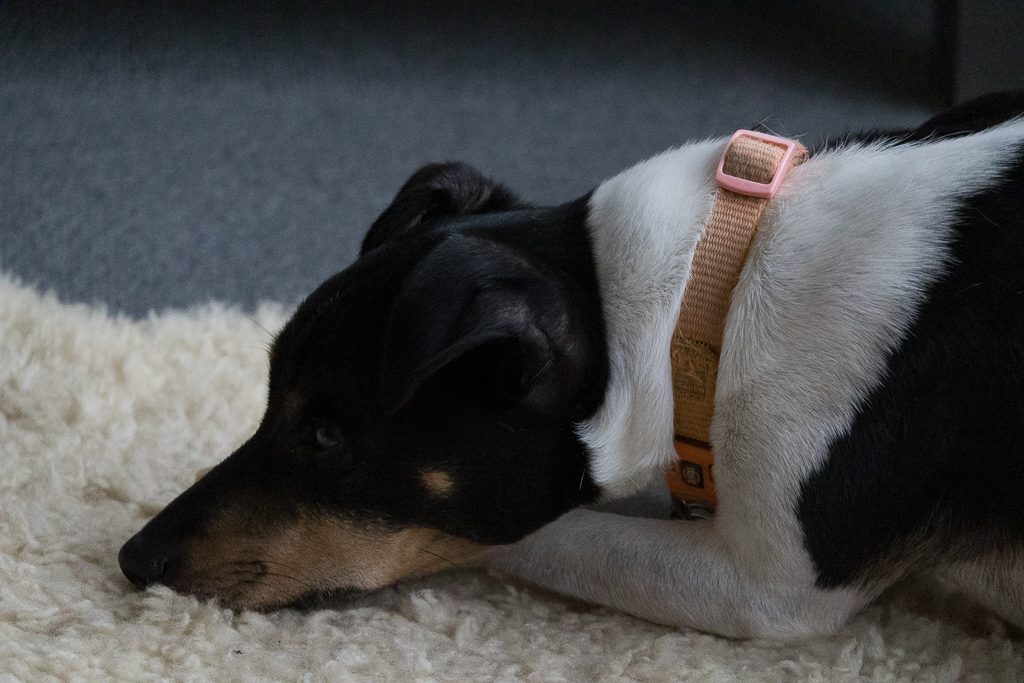Dog: (106, 77, 1024, 655)
